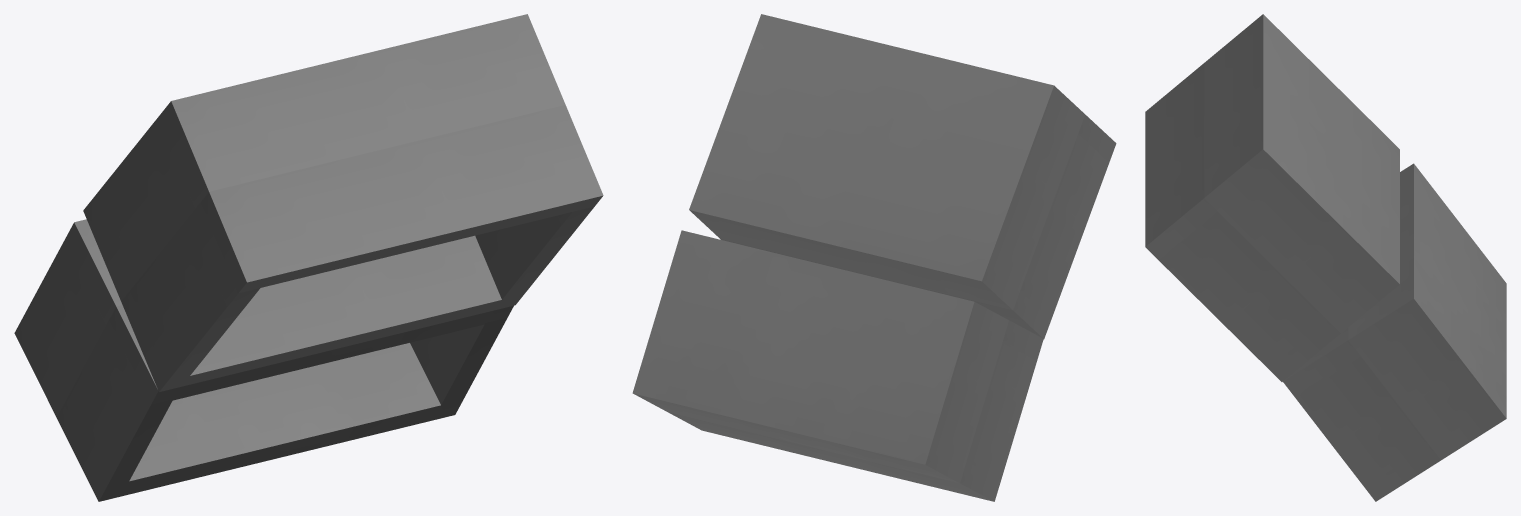
File: dc_metro_arch_a7.obj
The picture shows the model from 3 angles, left to right: view 1: azimuth 30°, elevation 25°; view 2: azimuth 150°, elevation 25°; view 3: azimuth 270°, elevation 25°; orthographic projection. The views are drawn at different scales.
Visible parts, largest first — view 1: part7b, part7; view 2: part7b, part7; view 3: part7b, part7.
Part boxes in pixels (bbox=[...]): part7b: bbox=[83, 14, 603, 391]; part7: bbox=[14, 219, 513, 501]; part7b: bbox=[689, 14, 1116, 338]; part7: bbox=[632, 230, 1043, 501]; part7b: bbox=[1145, 14, 1399, 381]; part7: bbox=[1283, 163, 1506, 501].
Bounding box in the file's own units: 2 × 2.43 × 2.26.
Materials: 1 (1 with a texture image).
